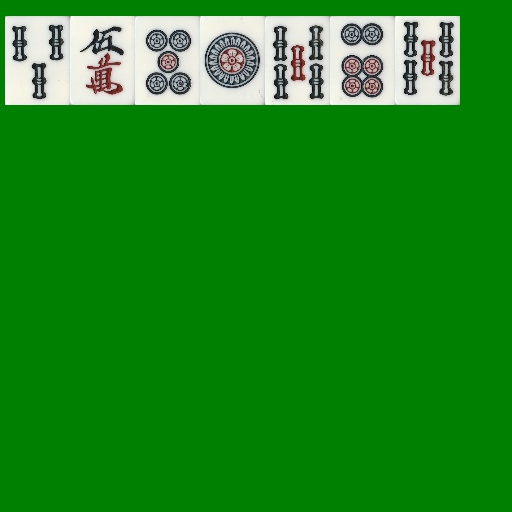1p: (200, 16, 265, 105)
3s: (5, 16, 70, 105)
5m: (70, 16, 135, 105)
5p: (135, 16, 200, 105)
5s: (265, 16, 330, 105), (395, 16, 460, 105)
6p: (330, 16, 395, 105)
